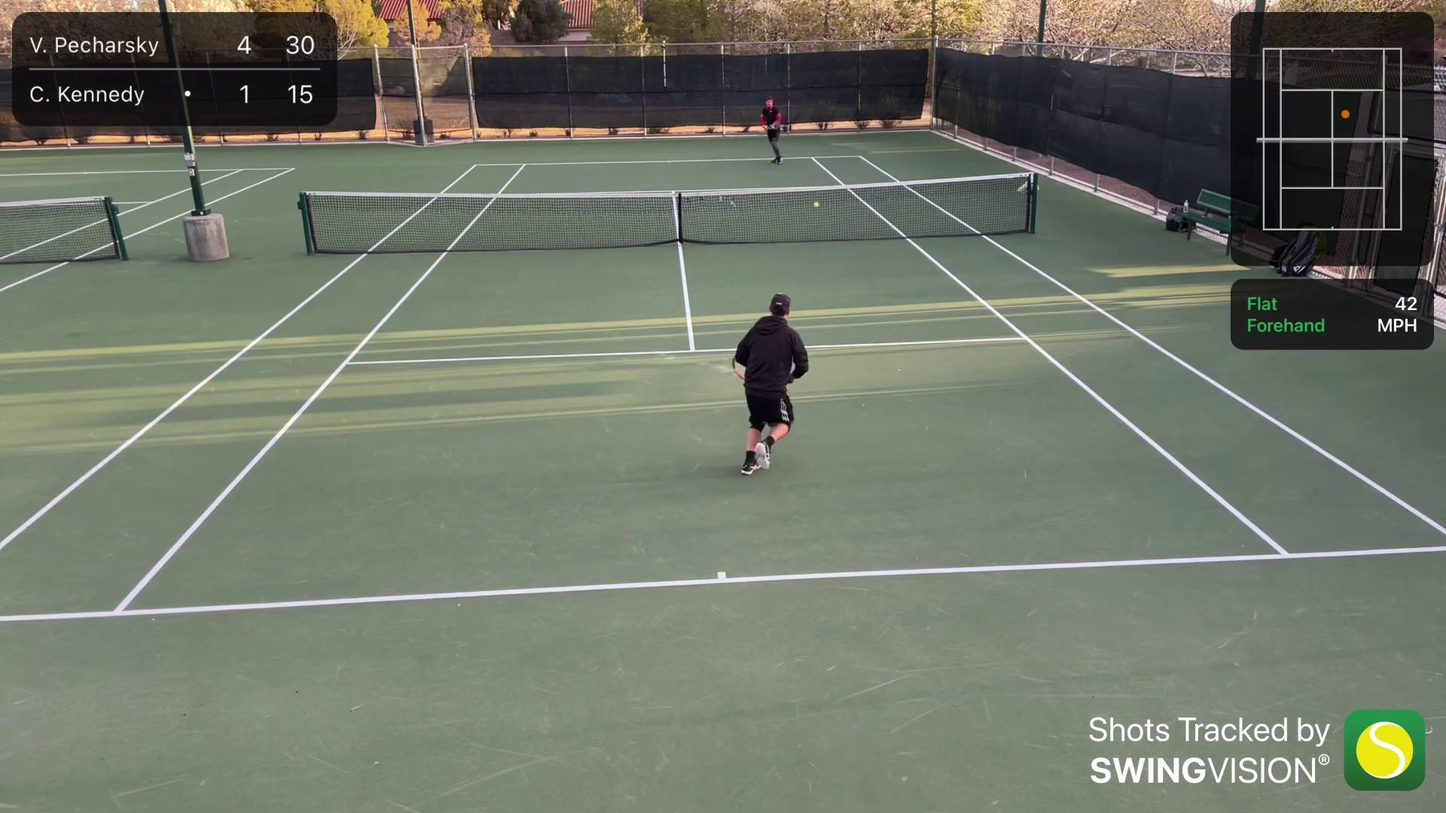ball: (813, 202, 820, 209)
